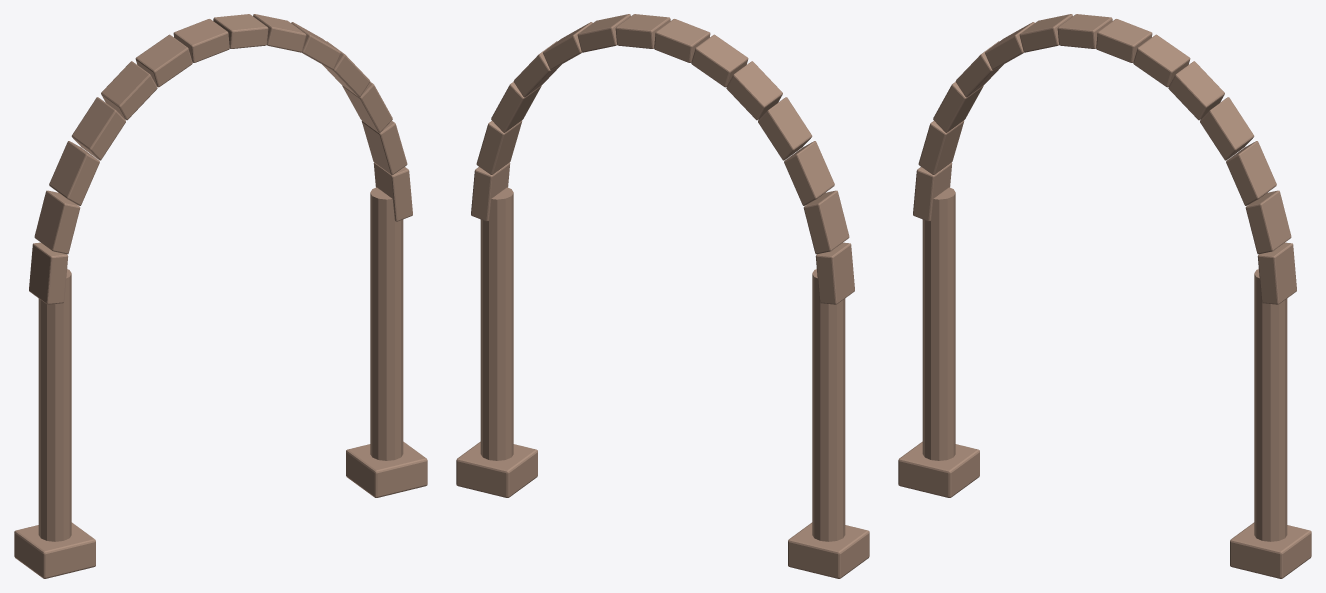
The model's file is a2_arch.glb.
The picture shows the model from 3 angles, left to right: view 1: azimuth 30°, elevation 25°; view 2: azimuth 150°, elevation 25°; view 3: azimuth 330°, elevation 25°; orthographic projection.
Parts seen in each view (by area): view 1: Body.011; view 2: Body.011; view 3: Body.011.
Boxes of the visible parts, <box> form: Body.011: <box>14,14,427,578</box>; Body.011: <box>456,14,869,578</box>; Body.011: <box>898,14,1311,578</box>.
Size of the model in its own units: 3.48 by 4.3 by 0.48.
